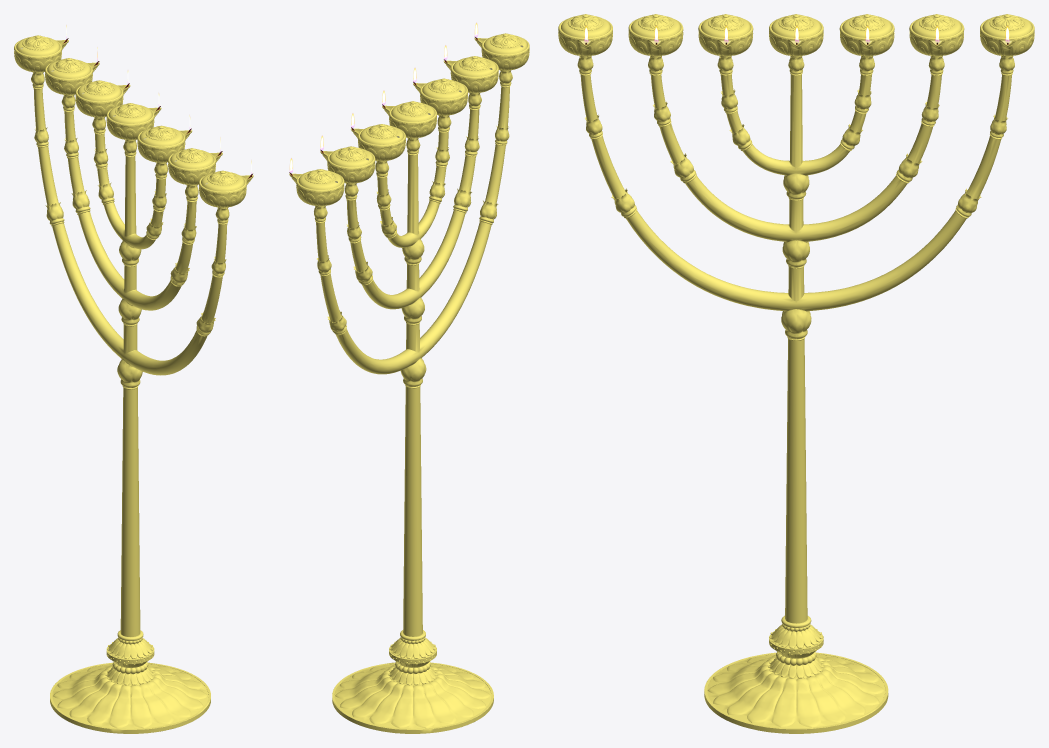
The picture shows the model from 3 angles, left to right: view 1: azimuth 30°, elevation 25°; view 2: azimuth 150°, elevation 25°; view 3: azimuth 270°, elevation 25°; orthographic projection. The views are drawn at different scales.
Parts seen in each view (by area): view 1: 00 MENORA FINAL, ADORNO CURVA.003, ADORNO CURVA.004, ADORNO CURVA.005, ADORNO CURVA.006, ADORNO CURVA.001, ADORNO CURVA.007, ADORNO CURVA.002, COPA CIRC INF FINAL.001, COPA CIRC INF FINAL.005, COPA CIRC INF FINAL.007, COPA CIRC INF FINAL.003 (+3 smaller); view 2: 00 MENORA FINAL, ADORNO CURVA.006, ADORNO CURVA.001, ADORNO CURVA.003, ADORNO CURVA.005, ADORNO CURVA.004, ADORNO CURVA.007, ADORNO CURVA.002, COPA CIRC INF FINAL.007, COPA CIRC INF FINAL.006, COPA CIRC INF FINAL.004, COPA CIRC INF FINAL.001 (+3 smaller); view 3: 00 MENORA FINAL, ADORNO CURVA.004, ADORNO CURVA.001, ADORNO CURVA.005, ADORNO CURVA.002, ADORNO CURVA.006, ADORNO CURVA.007, ADORNO CURVA.003, COPA CIRC INF FINAL.002, COPA CIRC INF FINAL.006, COPA CIRC INF FINAL.001, COPA CIRC INF FINAL.005 (+3 smaller).
Part boxes in pixels (left/top/right/bottom): 00 MENORA FINAL: left=31, top=72, right=229, bottom=733; ADORNO CURVA.003: left=168, top=148, right=215, bottom=170; ADORNO CURVA.004: left=106, top=103, right=154, bottom=125; ADORNO CURVA.005: left=75, top=80, right=123, bottom=102; ADORNO CURVA.006: left=45, top=58, right=92, bottom=80; ADORNO CURVA.001: left=199, top=170, right=246, bottom=192; ADORNO CURVA.007: left=14, top=35, right=61, bottom=57; ADORNO CURVA.002: left=137, top=125, right=185, bottom=147; COPA CIRC INF FINAL.001: left=199, top=175, right=253, bottom=207; COPA CIRC INF FINAL.005: left=75, top=85, right=130, bottom=117; COPA CIRC INF FINAL.007: left=14, top=40, right=68, bottom=72; COPA CIRC INF FINAL.003: left=168, top=152, right=222, bottom=185; 00 MENORA FINAL: left=314, top=70, right=512, bottom=733; ADORNO CURVA.006: left=327, top=146, right=375, bottom=168; ADORNO CURVA.001: left=481, top=33, right=529, bottom=55; ADORNO CURVA.003: left=451, top=56, right=498, bottom=78; ADORNO CURVA.005: left=358, top=124, right=405, bottom=146; ADORNO CURVA.004: left=389, top=101, right=436, bottom=123; ADORNO CURVA.007: left=296, top=169, right=344, bottom=191; ADORNO CURVA.002: left=420, top=78, right=467, bottom=100; COPA CIRC INF FINAL.007: left=289, top=173, right=344, bottom=206; COPA CIRC INF FINAL.006: left=320, top=151, right=375, bottom=183; COPA CIRC INF FINAL.004: left=382, top=105, right=436, bottom=138; COPA CIRC INF FINAL.001: left=474, top=38, right=529, bottom=70; 00 MENORA FINAL: left=577, top=55, right=1014, bottom=733; ADORNO CURVA.004: left=769, top=14, right=823, bottom=40; ADORNO CURVA.001: left=558, top=14, right=612, bottom=40; ADORNO CURVA.005: left=840, top=14, right=894, bottom=40; ADORNO CURVA.002: left=698, top=14, right=752, bottom=40; ADORNO CURVA.006: left=909, top=14, right=963, bottom=40; ADORNO CURVA.007: left=980, top=14, right=1034, bottom=40; ADORNO CURVA.003: left=628, top=14, right=682, bottom=40; COPA CIRC INF FINAL.002: left=698, top=28, right=753, bottom=56; COPA CIRC INF FINAL.006: left=909, top=28, right=964, bottom=56; COPA CIRC INF FINAL.001: left=558, top=27, right=612, bottom=56; COPA CIRC INF FINAL.005: left=839, top=28, right=894, bottom=56.
Bounding box in the file's own units: 0.2598 × 1.08 × 0.6727.
Materials: 4 (2 with a texture image).
